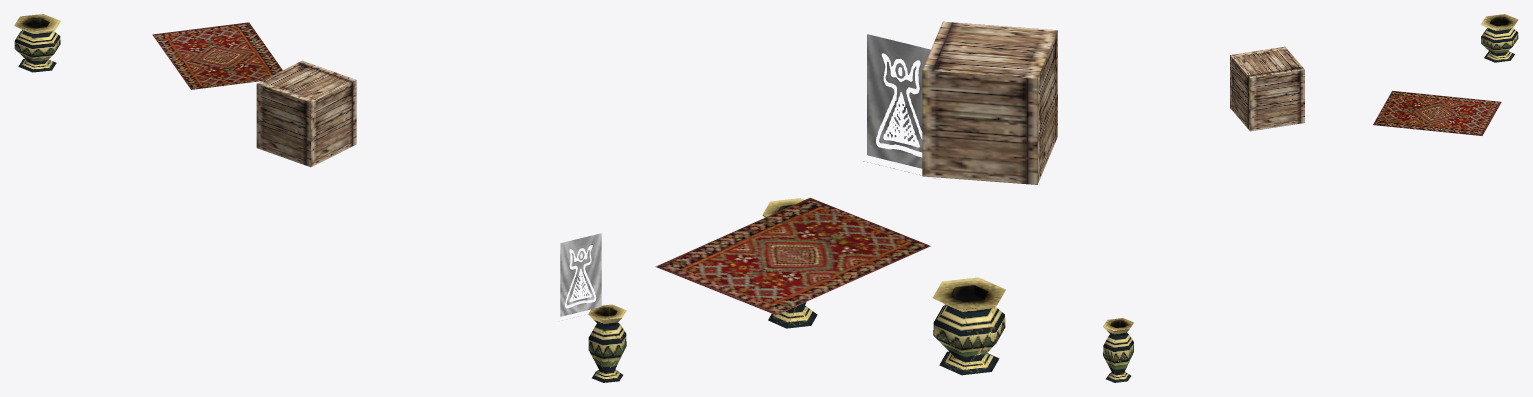
Rendered from kart_house_c_1.dae.
The picture shows the model from 3 angles, left to right: view 1: azimuth 30°, elevation 25°; view 2: azimuth 150°, elevation 25°; view 3: azimuth 270°, elevation 25°; orthographic projection. The views are drawn at different scales.
Visible parts, largest first — view 1: Object15; view 2: Object15; view 3: Object15.
Boxes of the visible parts, x1,y1,x2,y2 form: Object15: [14, 14, 626, 382]; Object15: [655, 21, 1057, 375]; Object15: [1103, 14, 1518, 382].
Bounding box in the file's own units: 9.15 × 6.52 × 11.09.
